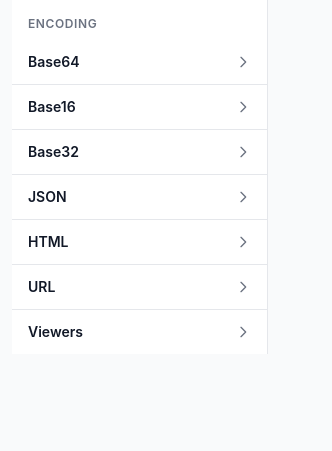
Test case: Sidebar Navigation Integration › Group Expand/Collapse › should collapse group when clicking expanded group header
Note: Expand first
Click the button "Base64" at (140, 62), box [12,40,267,84]
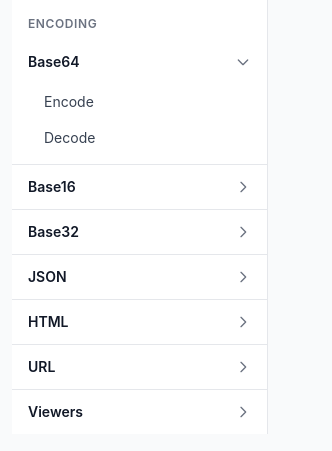
Expected: the button "Encode" is shown, [12,84,267,120]
Click the button "Base64" at (140, 62), box [12,40,267,84]
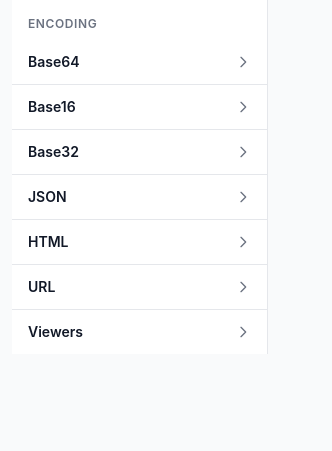
Expected: no buttons "Encode" are shown
